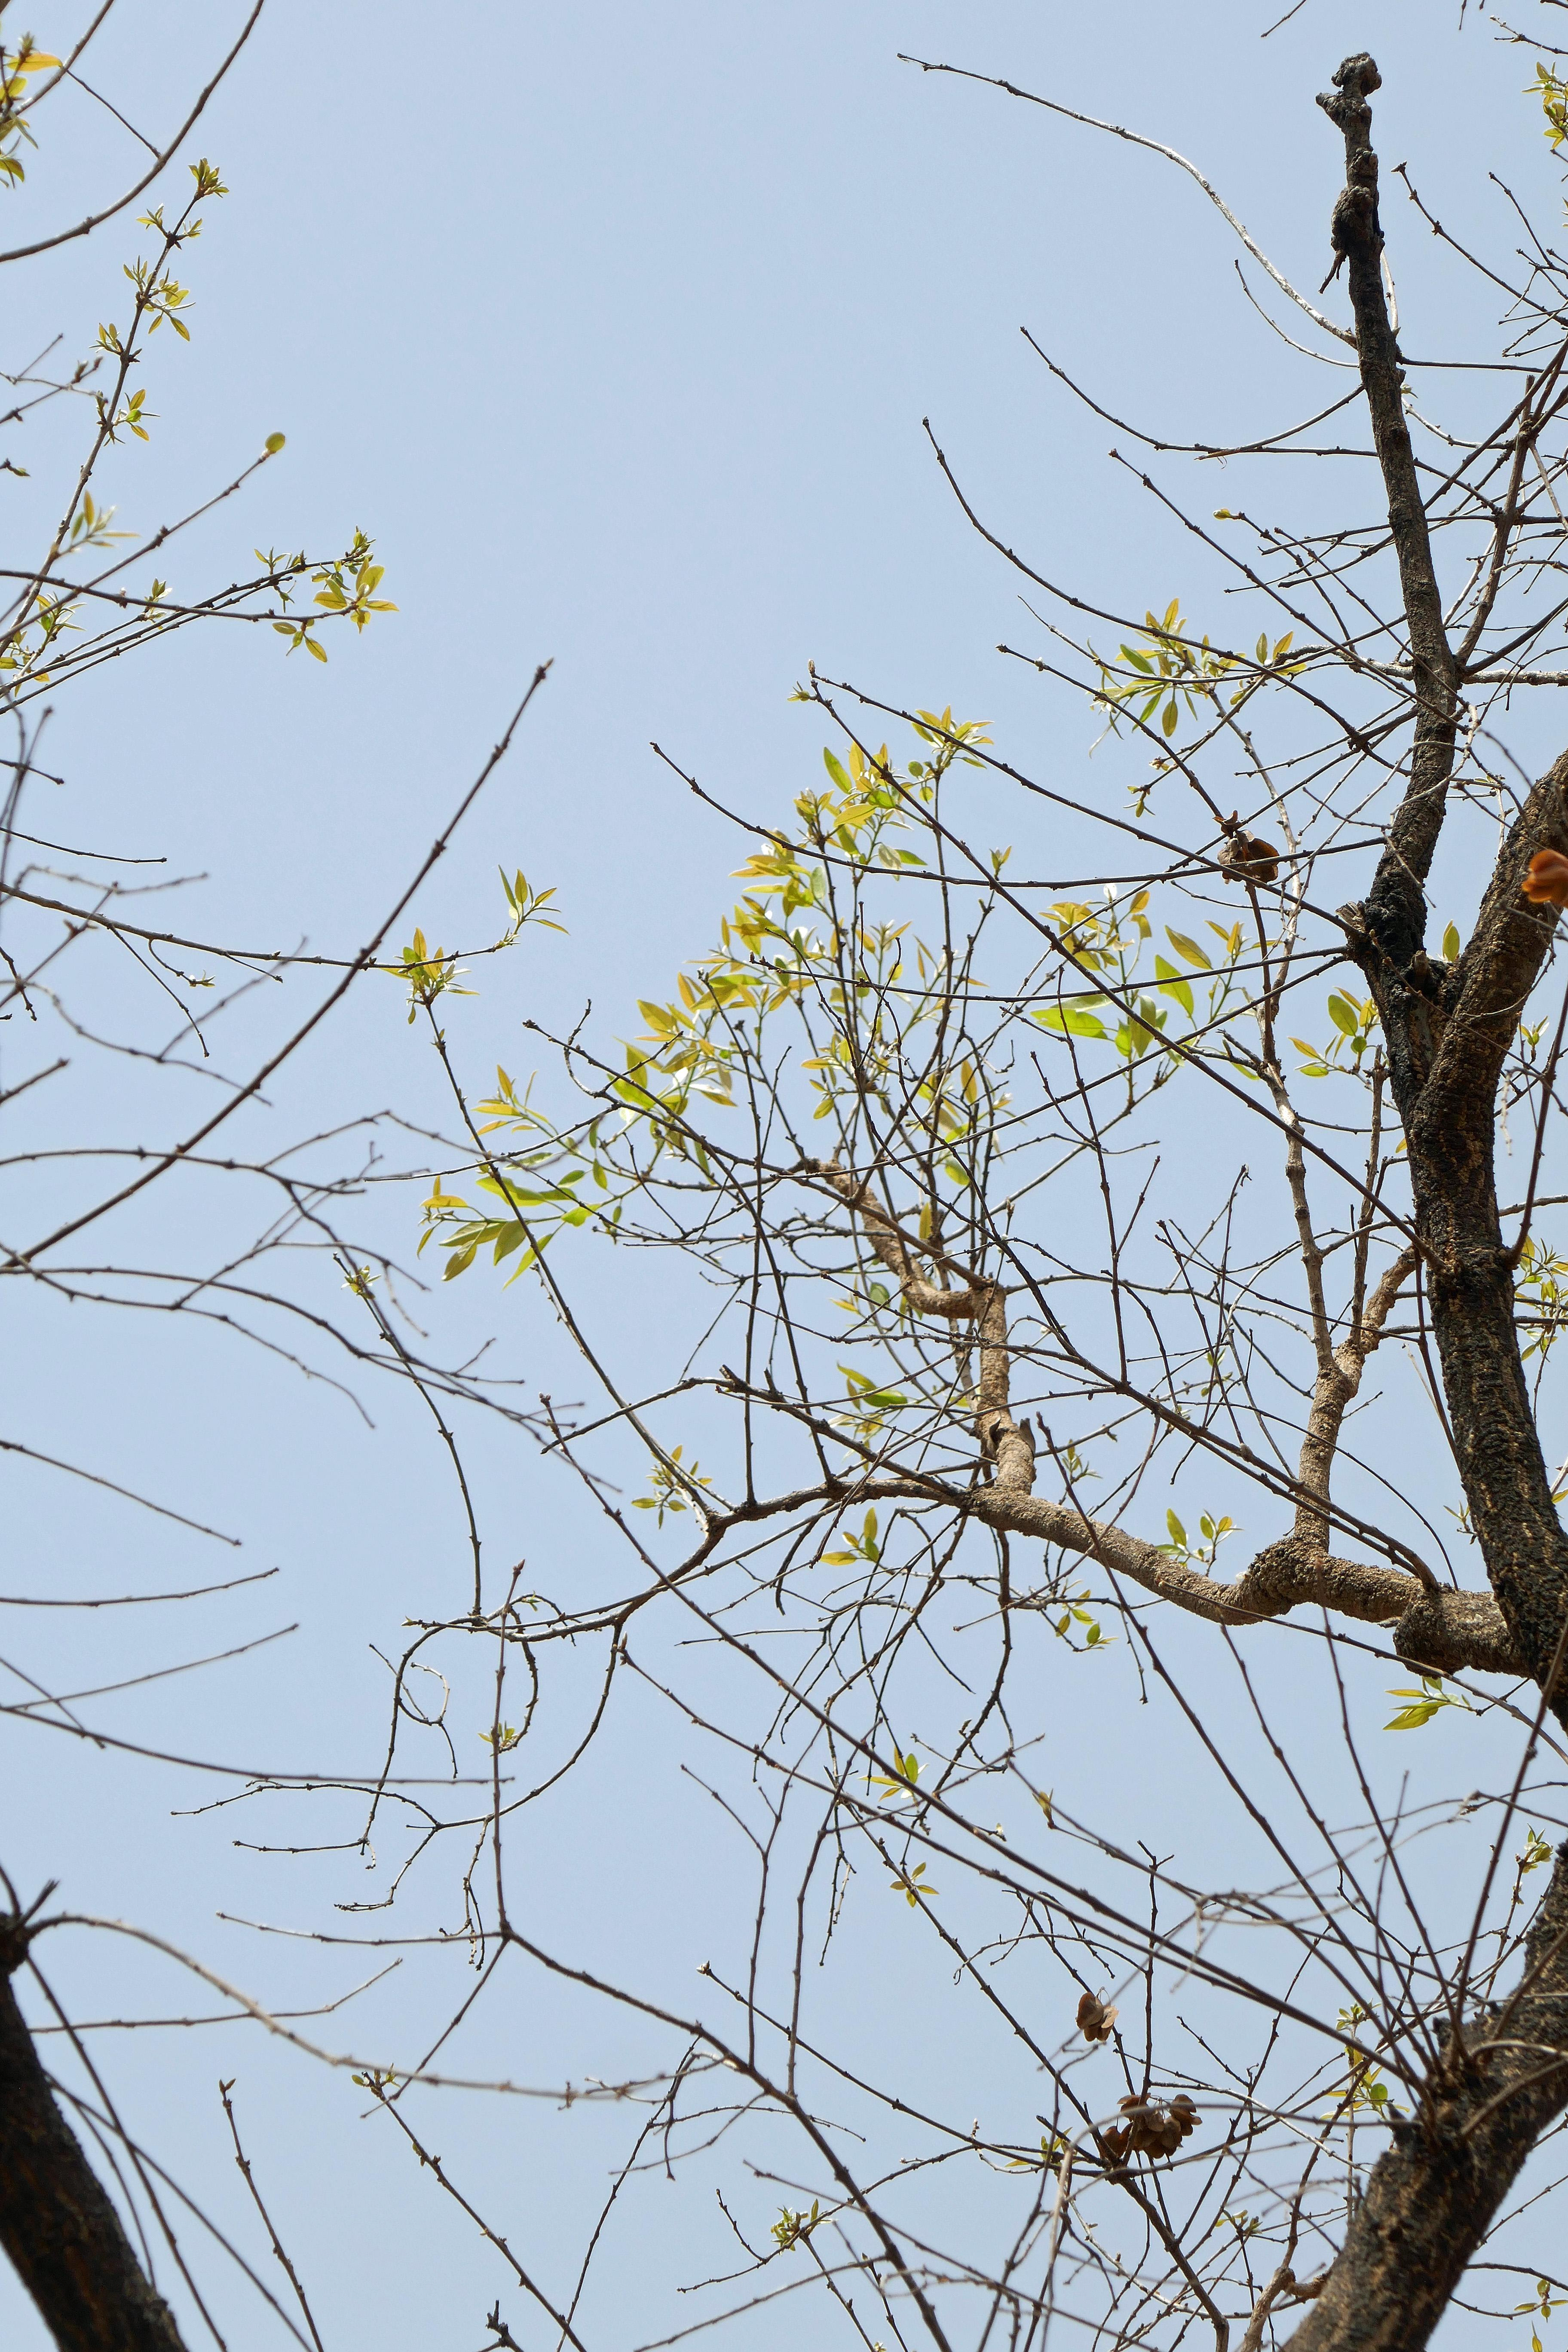baldness: (703, 1617, 1568, 2352), (0, 163, 390, 719), (1136, 1626, 1290, 1862)
